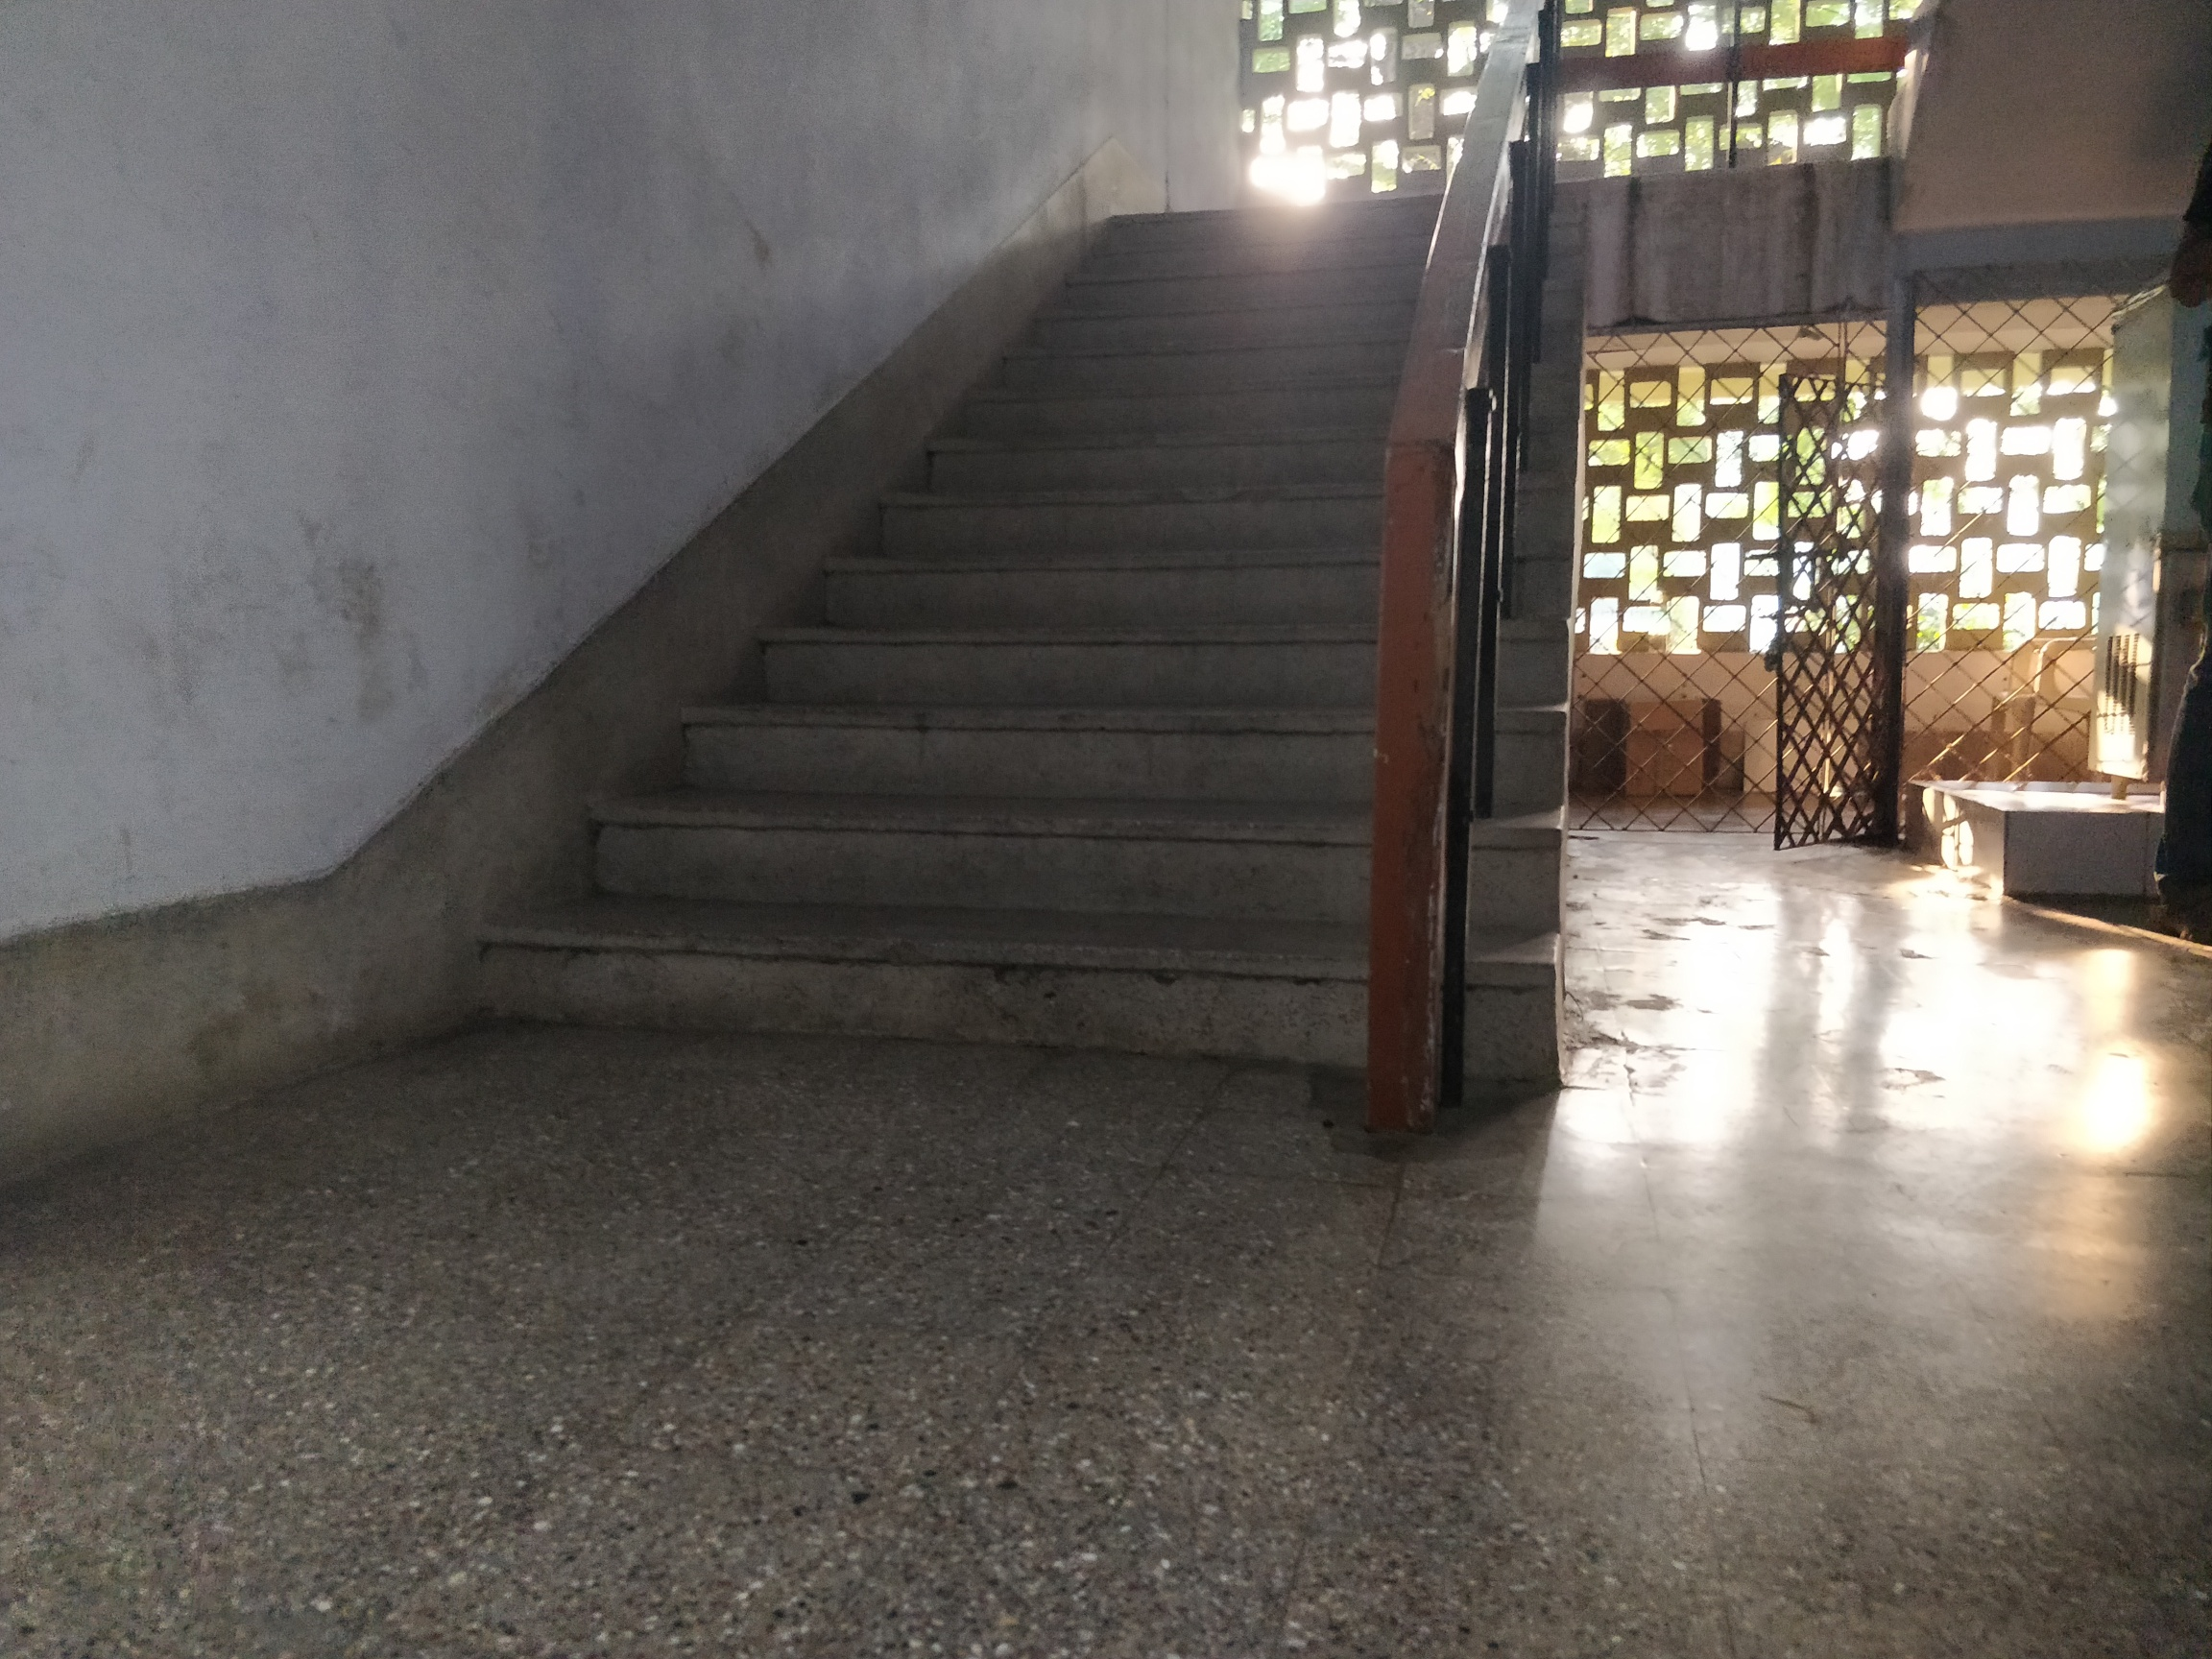stairs_up: (444, 181, 1578, 1070)
